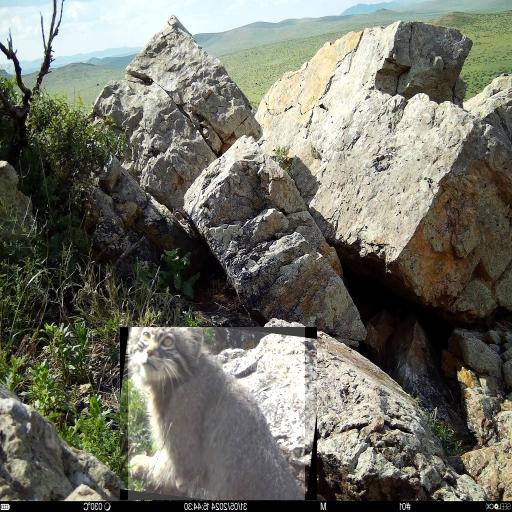manul: (128, 327, 304, 500)
